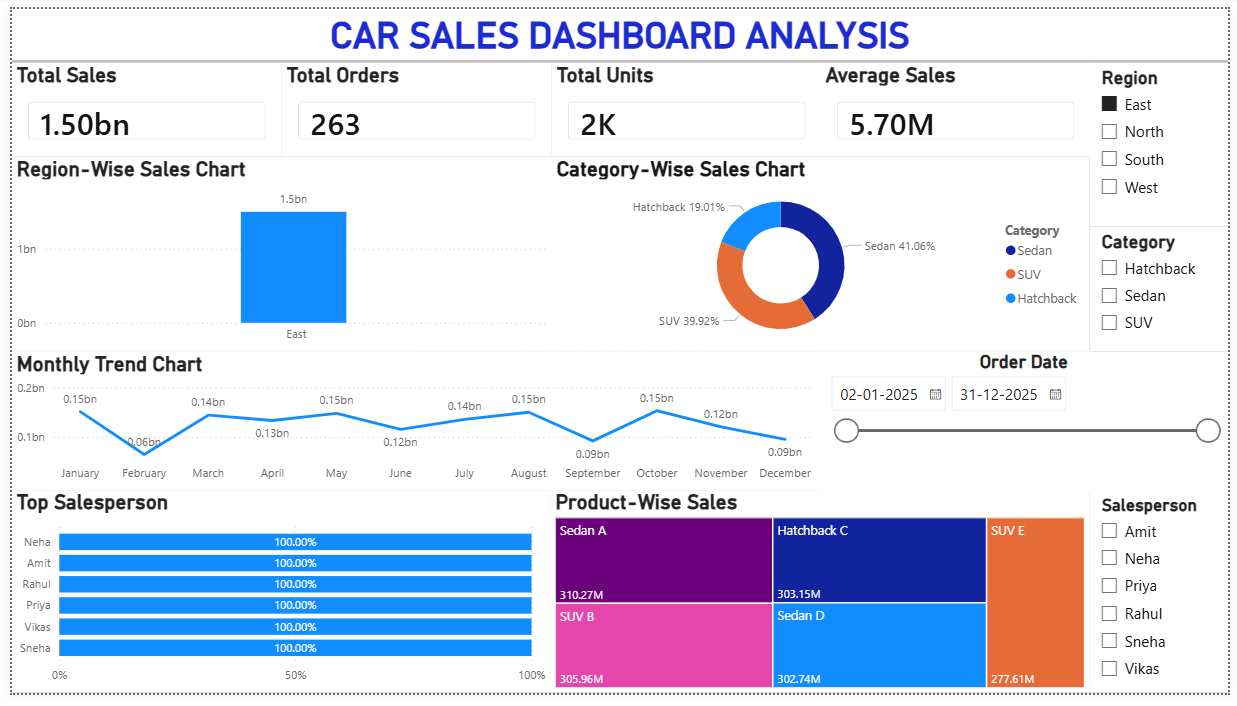

Layout of this report page (visuals, bound fields, positions):
{"tool":"powerbi","page":{"name":"Car Sales Dashboard","canvas":[1280,720],"ordinal":0},"visuals":[{"type":"donutChart","title":"Category-Wise Sales Chart","fields":{"Category":["Car_Sales_Dataset_1000 (1).Category"],"Y":["Car_Sales_Dataset_1000 (1).Measure 2"]},"box":[402.1,156.4,402.1,236],"z":0},{"type":"clusteredColumnChart","title":"Region-Wise Sales Chart","fields":{"Y":["Car_Sales_Dataset_1000 (1).Measure"],"Category":["Car_Sales_Dataset_1000 (1).Region"]},"box":[0,156.4,402.1,236],"z":1000},{"type":"lineChart","title":"Monthly Trend Chart","fields":{"Category":["Car_Sales_Dataset_1000 (1).OrderDate.Variation.Date Hierarchy.Month"],"Y":["Car_Sales_Dataset_1000 (1).Measure"]},"box":[0,391.1,576.3,219.6],"z":2000},{"type":"hundredPercentStackedBarChart","title":"Top Salesperson","fields":{"Y":["Car_Sales_Dataset_1000 (1).Measure"],"Category":["Car_Sales_Dataset_1000 (1).Salesperson"]},"box":[576.3,391.1,558.5,219.6],"z":3000},{"type":"textbox","box":[0,0,1280.3,53.5],"z":4000},{"type":"treemap","title":"Product-Wise Sales","fields":{"Values":["Car_Sales_Dataset_1000 (1).Measure"],"Group":["Car_Sales_Dataset_1000 (1).Product"]},"box":[804.1,156.4,330.7,236],"z":5000},{"type":"actionButton","box":[0,0,100,40],"z":6000},{"type":"slicer","title":"Slicers","fields":{"Values":["Car_Sales_Dataset_1000 (1).Region"]},"box":[1134.8,56.3,140,172.9],"z":7000},{"type":"cardVisual","title":"Total Sales","fields":{"Data":["Car_Sales_Dataset_1000 (1).Total Sales"]},"box":[0,56.3,284,98.8],"z":8000},{"type":"cardVisual","title":"Total Orders","fields":{"Data":["Car_Sales_Dataset_1000 (1).Total Orders"]},"box":[284,56.3,284,98.8],"z":9000},{"type":"cardVisual","title":"Total Units","fields":{"Data":["Car_Sales_Dataset_1000 (1).Total Units"]},"box":[568.1,56.3,284,98.8],"z":10000},{"type":"cardVisual","title":"Average Sales","fields":{"Data":["Car_Sales_Dataset_1000 (1).Measure 4"]},"box":[850.8,56.3,284,98.8],"z":11000},{"type":"slicer","fields":{"Values":["Car_Sales_Dataset_1000 (1).Category"]},"box":[1134.8,462.4,140,148.2],"z":12000},{"type":"slicer","fields":{"Values":["Car_Sales_Dataset_1000 (1).Salesperson"]},"box":[1134.8,229.2,140,233.3],"z":13000},{"type":"slicer","title":"Order Date","fields":{"Values":["Car_Sales_Dataset_1000 (1).OrderDate"]},"box":[0,610.6,1274.8,109.8],"z":14000}]}

Visuals, with their boxes in screenshot pixels (x1, y1, x2, y2), scaled from the page's 1280x720 canvas onto the 1237x706 screenshot:
"Category-Wise Sales Chart" donutChart: select_region(389, 153, 777, 385)
"Region-Wise Sales Chart" clusteredColumnChart: select_region(0, 153, 389, 385)
"Monthly Trend Chart" lineChart: select_region(0, 383, 557, 599)
"Top Salesperson" hundredPercentStackedBarChart: select_region(557, 383, 1097, 599)
textbox: select_region(0, 0, 1236, 52)
"Product-Wise Sales" treemap: select_region(777, 153, 1097, 385)
actionButton: select_region(0, 0, 97, 39)
"Slicers" slicer: select_region(1097, 55, 1232, 225)
"Total Sales" cardVisual: select_region(0, 55, 274, 152)
"Total Orders" cardVisual: select_region(274, 55, 549, 152)
"Total Units" cardVisual: select_region(549, 55, 823, 152)
"Average Sales" cardVisual: select_region(822, 55, 1097, 152)
slicer - Car_Sales_Dataset_1000 (1).Category: select_region(1097, 453, 1232, 599)
slicer - Car_Sales_Dataset_1000 (1).Salesperson: select_region(1097, 225, 1232, 454)
"Order Date" slicer: select_region(0, 599, 1232, 705)
